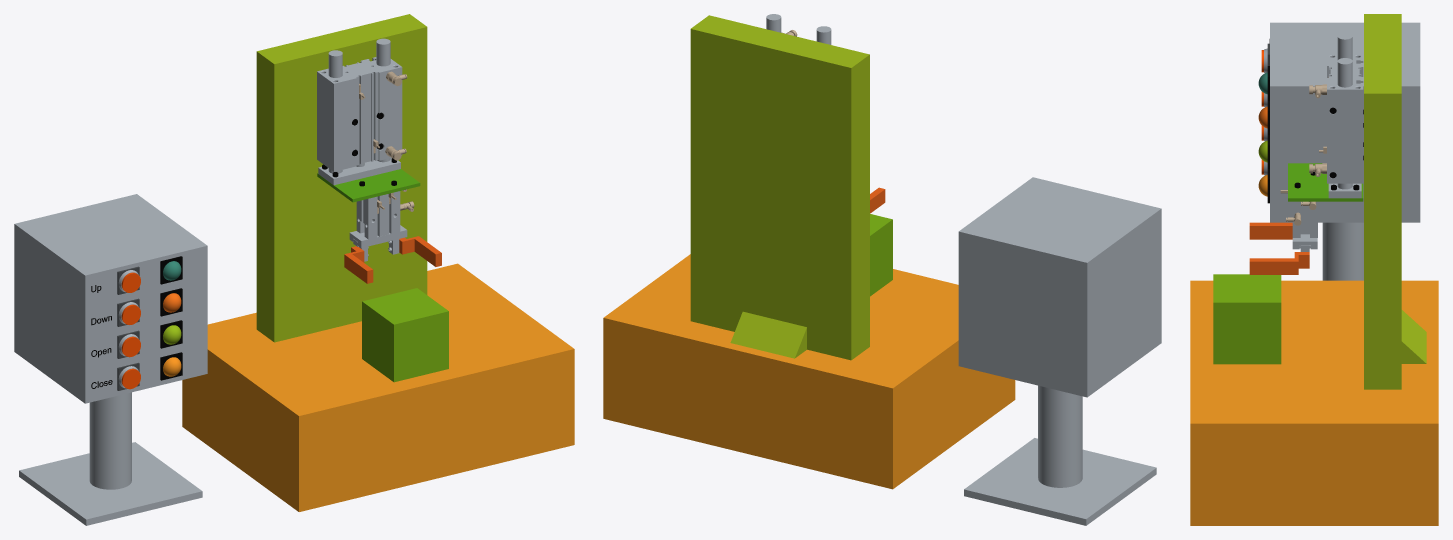
The model's file is pick_and_place_model.gltf.
3 views of the same model, side by side, from view 1: azimuth 30°, elevation 25°; view 2: azimuth 150°, elevation 25°; view 3: azimuth 270°, elevation 25° (orthographic). The views are drawn at different scales.
Parts seen in each view (by area): view 1: table, wall, control_panel_body, control_panel_stand, cylinder_body, work, air_chuck_body, cylinder_rod, connect_plate; view 2: wall, table, control_panel_body, control_panel_stand, wall2, work; view 3: table, control_panel_body, wall, work, cylinder_body, control_panel_stand, connect_plate, cylinder_rod, wall2, air_chuck_body, chuck_plate_left_body, chuck_plate_right_body (+1 smaller).
Boxes of the visible parts, x1,y1,x2,y2 form: table: (182,263,574,511); wall: (256,14,427,342); control_panel_body: (14,194,207,403); control_panel_stand: (19,392,202,525); cylinder_body: (317,57,402,171); work: (362,288,448,382); air_chuck_body: (349,191,407,247); cylinder_rod: (318,38,400,185); connect_plate: (317,169,420,202); wall: (690,15,869,360); table: (603,254,1015,489); control_panel_body: (958,177,1161,397); control_panel_stand: (964,385,1156,525); wall2: (730,311,806,358); work: (870,214,892,296); table: (1190,280,1438,525); control_panel_body: (1270,22,1420,222); wall: (1364,14,1401,389); work: (1213,274,1281,364); cylinder_body: (1327,54,1363,183); control_panel_stand: (1322,222,1363,280); connect_plate: (1288,163,1363,201); cylinder_rod: (1328,33,1361,198); wall2: (1401,310,1426,363); air_chuck_body: (1292,201,1317,249); chuck_plate_left_body: (1249,222,1292,239); chuck_plate_right_body: (1249,258,1294,274).
Size of the model in its own units: 0.7382 by 0.5915 by 0.33.
